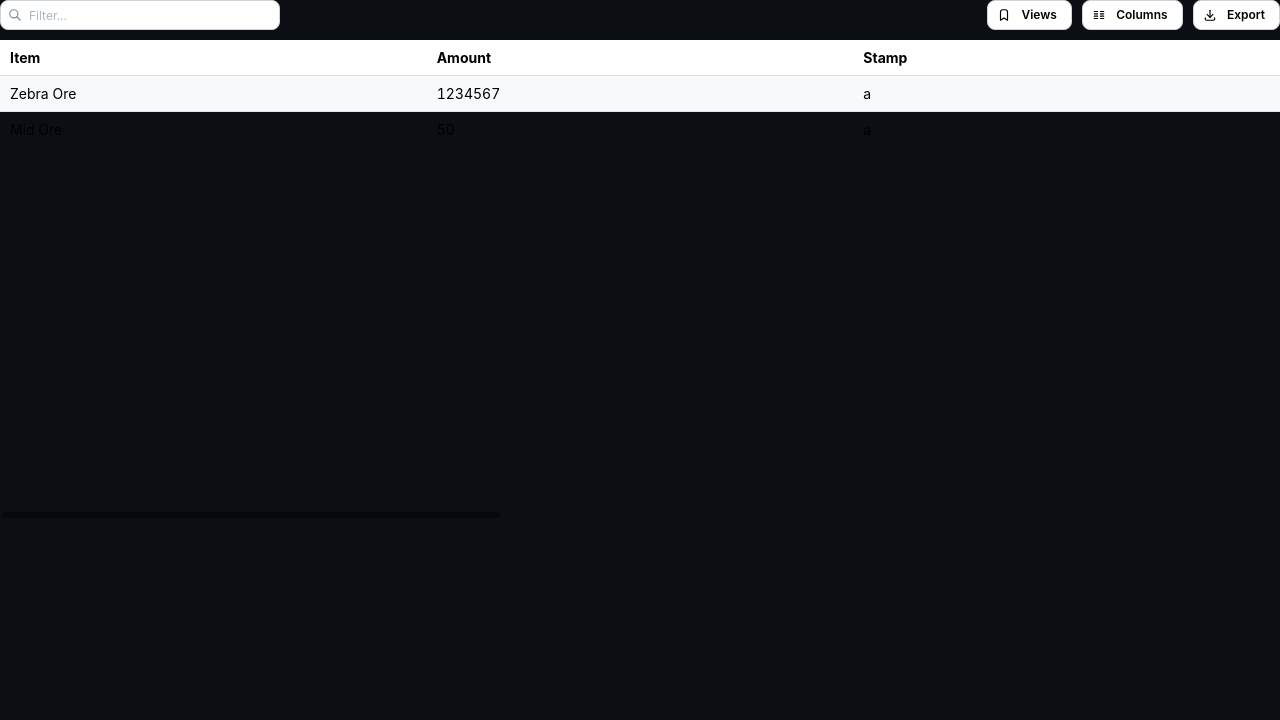
Test: DataTable default hover summary and change tracking › shows the other columns of the row when hovering a name cell
Hover over the text "Zebra Ore": {"x": 43, "y": 93} [10,85,76,102]
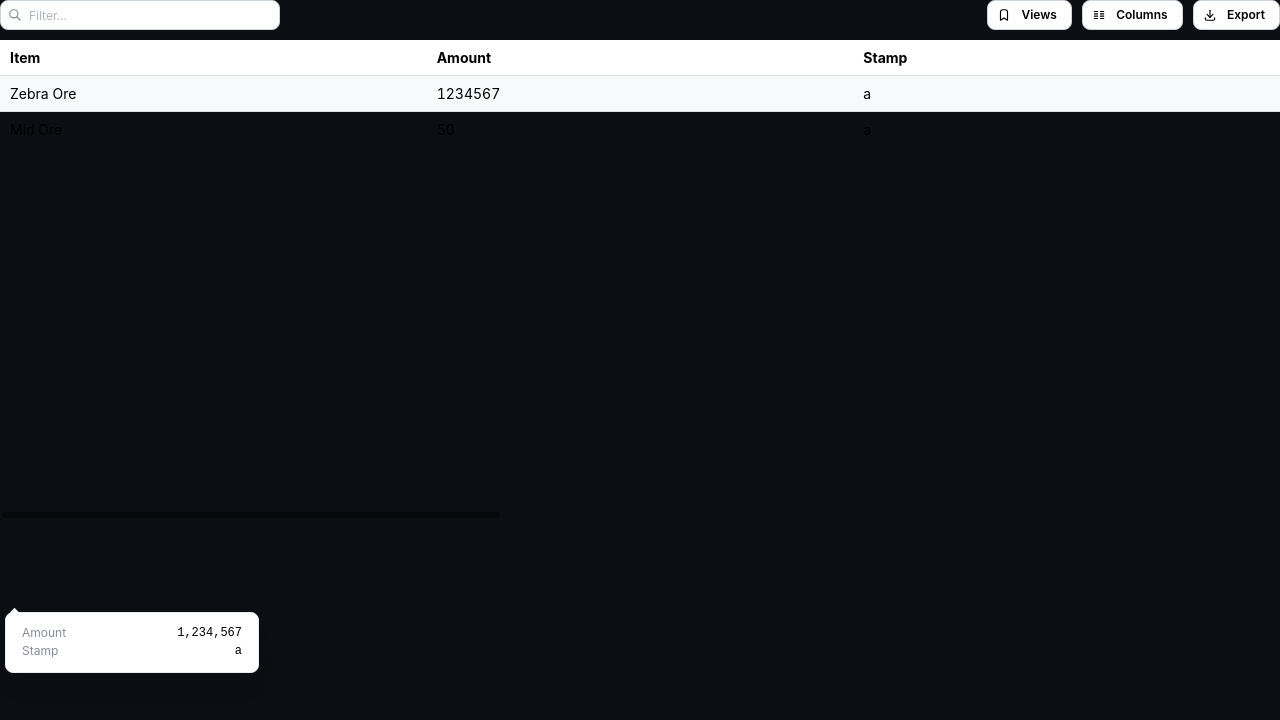
Expected: the number of buttons "Stamp" is 2, [853,40,1279,76]; [22,643,58,660]
Now the text "1,234,567" is shown, box [177,624,242,641]
